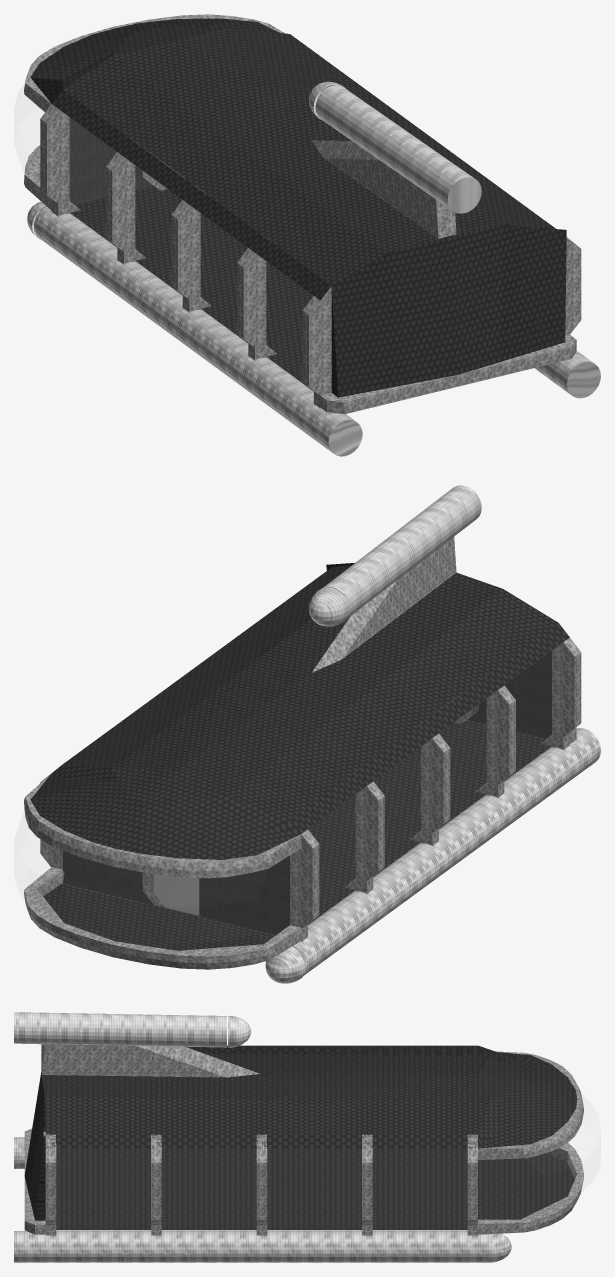
The model's file is SpaceshipFull.obj.
3 views of the same model, one above another, from view 1: azimuth 30°, elevation 25°; view 2: azimuth 150°, elevation 25°; view 3: azimuth 270°, elevation 25° (orthographic). The views are drawn at different scales.
Visible parts, largest first — view 1: Ceiling, Default, ThrusterFuselage, floor, Wall; view 2: Ceiling, Default, ThrusterFuselage, floor, Wall, Door; view 3: Ceiling, floor, ThrusterFuselage, Default.
Boxes of the visible parts, x1,y1,x2,y2 form: Ceiling: (30, 18, 566, 397); Default: (24, 14, 581, 414); ThrusterFuselage: (27, 81, 600, 456); floor: (70, 178, 313, 390); Wall: (69, 115, 153, 204); Ceiling: (30, 563, 569, 859); Default: (24, 537, 581, 969); ThrusterFuselage: (265, 485, 600, 983); floor: (43, 712, 551, 950); Wall: (63, 649, 551, 934); Door: (154, 694, 460, 915); Ceiling: (24, 1045, 577, 1220); floor: (56, 1148, 574, 1230); ThrusterFuselage: (14, 1012, 511, 1262); Default: (24, 1044, 583, 1235).
Size of the model in its own units: 12.1 by 10.5 by 27.83.
7 materials, 6 textured.
